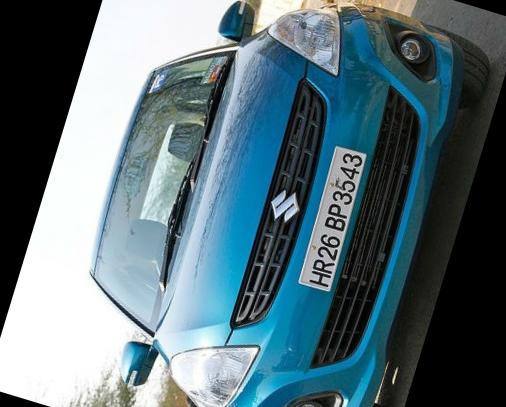plate: (290, 133, 392, 308)
